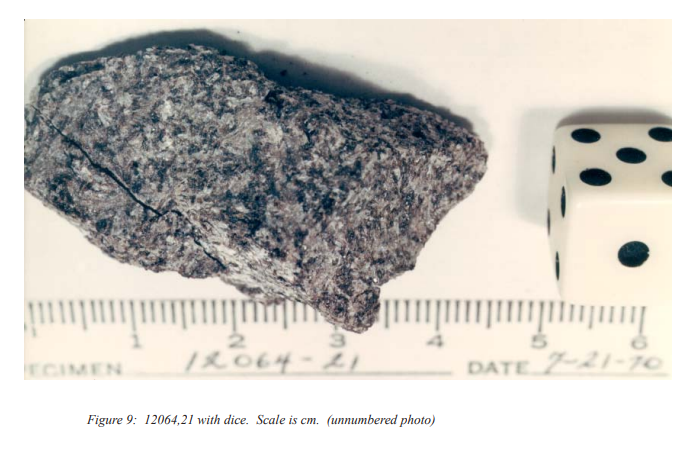Basalt: (23, 28, 503, 327)
